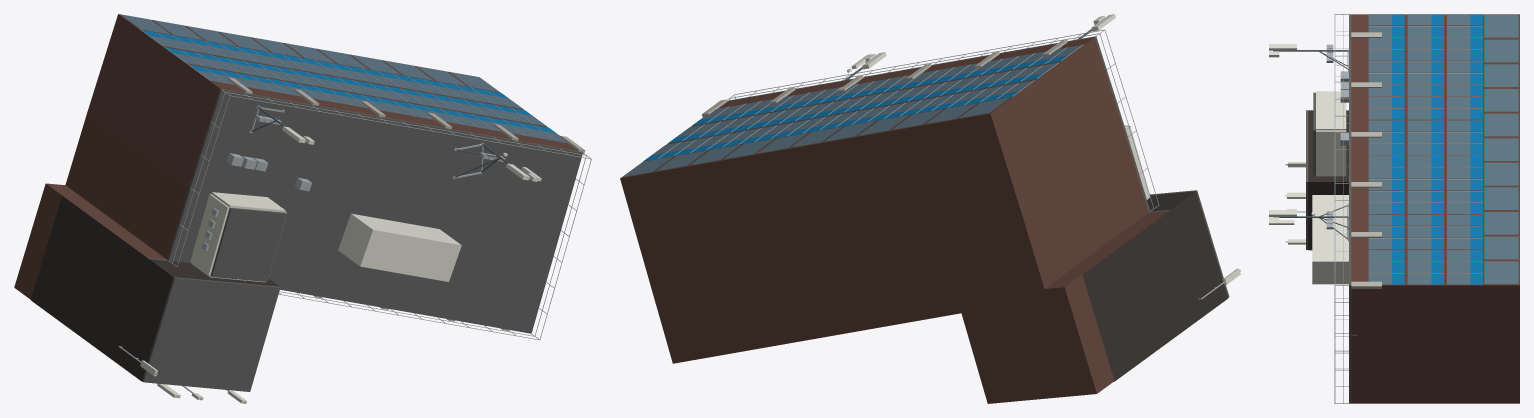
Rendered from 7163-Crown-House-Rev1.obj.
3 renders of one model, left to right at view 1: azimuth 30°, elevation 25°; view 2: azimuth 150°, elevation 25°; view 3: azimuth 270°, elevation 25°, orthographic. The views are drawn at different scales.
Visible parts, largest first — view 1: roof_slab, building_GA_footprint, stair_dark_brick_face, west_upper_roof_16900, photo_front_glazing, retained_cabin, photo_blue_spandrels, retail_front, plant_roof_16300, plant_room_walls, existing_1100_handrail, facade_mullions (+3 smaller); view 2: building_GA_footprint, stair_dark_brick_face, photo_front_glazing, photo_blue_spandrels, retail_front, facade_mullions, existing_1100_handrail, roof_slab, roof_columns, west_upper_roof_block; view 3: building_GA_footprint, photo_front_glazing, photo_blue_spandrels, retail_front, retained_cabin, facade_mullions, plant_room_walls, roof_columns, roof_slab, existing_1100_handrail, west_upper_roof_block, stair_dark_brick_face (+5 smaller).
Boxes of the visible parts, x1,y1,x2,y2 form: roof_slab: [148, 88, 582, 333]; building_GA_footprint: [14, 14, 577, 299]; stair_dark_brick_face: [30, 196, 278, 381]; west_upper_roof_16900: [142, 277, 280, 391]; photo_front_glazing: [150, 36, 567, 142]; retained_cabin: [338, 213, 461, 281]; photo_blue_spandrels: [142, 30, 555, 132]; retail_front: [121, 14, 498, 91]; plant_roof_16300: [210, 207, 286, 281]; plant_room_walls: [190, 192, 286, 282]; existing_1100_handrail: [172, 92, 591, 340]; facade_mullions: [141, 30, 555, 140]; building_GA_footprint: [620, 37, 1168, 403]; stair_dark_brick_face: [1082, 191, 1228, 381]; photo_front_glazing: [651, 45, 1081, 155]; photo_blue_spandrels: [643, 55, 1067, 161]; retail_front: [623, 97, 1010, 176]; facade_mullions: [658, 44, 1083, 158]; existing_1100_handrail: [729, 29, 1158, 208]; roof_slab: [727, 36, 1170, 212]; roof_columns: [702, 40, 1067, 117]; west_upper_roof_block: [1147, 191, 1195, 211]; building_GA_footprint: [1351, 14, 1519, 403]; photo_front_glazing: [1368, 14, 1470, 284]; photo_blue_spandrels: [1392, 14, 1482, 284]; retail_front: [1484, 15, 1518, 283]; retained_cabin: [1312, 195, 1348, 284]; facade_mullions: [1368, 14, 1482, 273]; plant_room_walls: [1316, 91, 1346, 176]; roof_columns: [1351, 32, 1381, 288]; roof_slab: [1349, 14, 1351, 403]; existing_1100_handrail: [1334, 14, 1343, 403]; west_upper_roof_block: [1308, 110, 1348, 182]; stair_dark_brick_face: [1308, 182, 1348, 250].
Bounding box in the file's own units: 35417 × 23090 × 19800.
